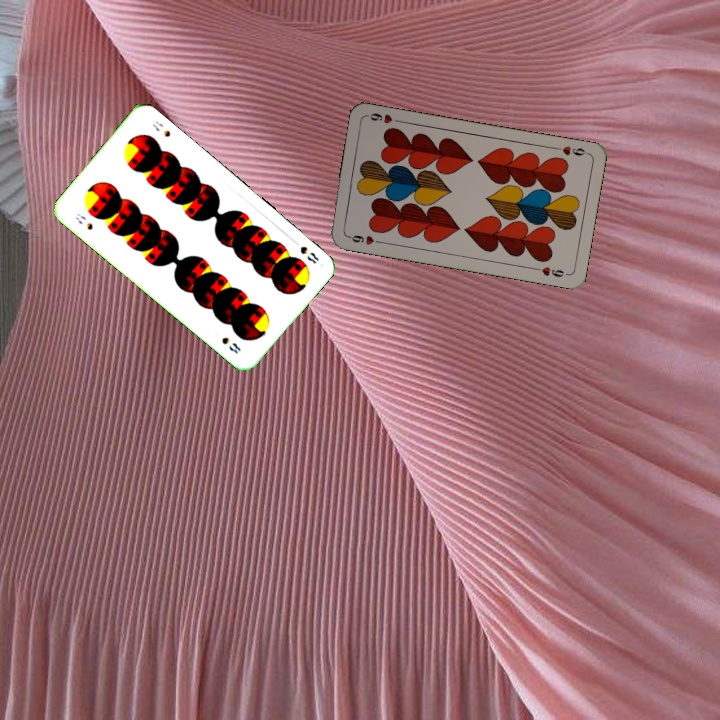H9: (550, 142, 591, 158), (344, 231, 384, 247)
S8: (296, 242, 321, 266), (71, 209, 95, 233)
